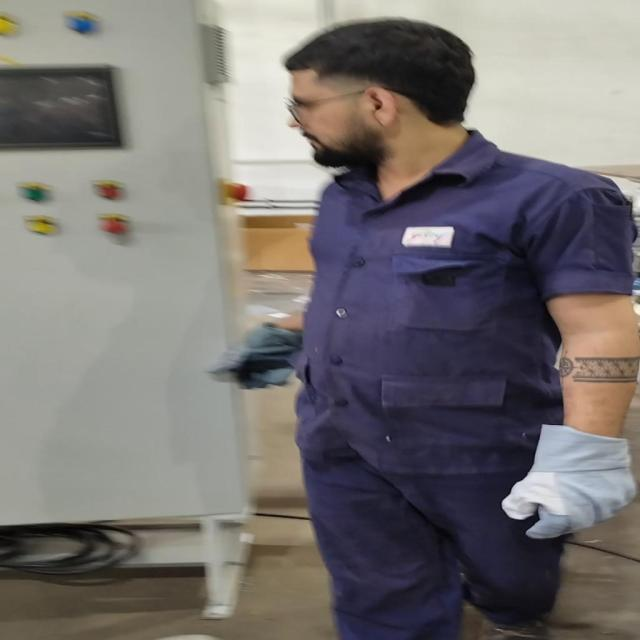Gloves-Detection: (509, 418, 640, 544), (217, 317, 297, 404)
